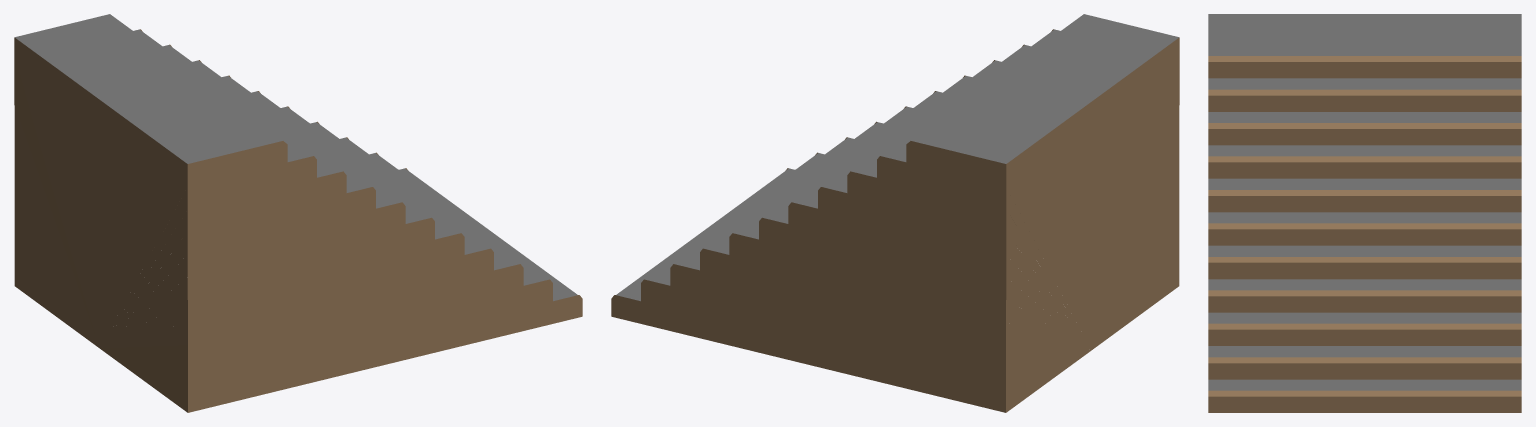
Rendered from Staris.fbx.
3 views of the same model, side by side, from view 1: azimuth 30°, elevation 25°; view 2: azimuth 150°, elevation 25°; view 3: azimuth 270°, elevation 25° (orthographic). The views are drawn at different scales.
Visible parts, largest first — view 1: pCube1; view 2: pCube1; view 3: pCube1.
Boxes of the visible parts, <box> form: pCube1: <box>14,14,582,412</box>; pCube1: <box>611,14,1179,412</box>; pCube1: <box>1208,14,1521,412</box>.
Size of the model in its own units: 26.77 by 16.13 by 20.34.
1 material, 1 textured.
